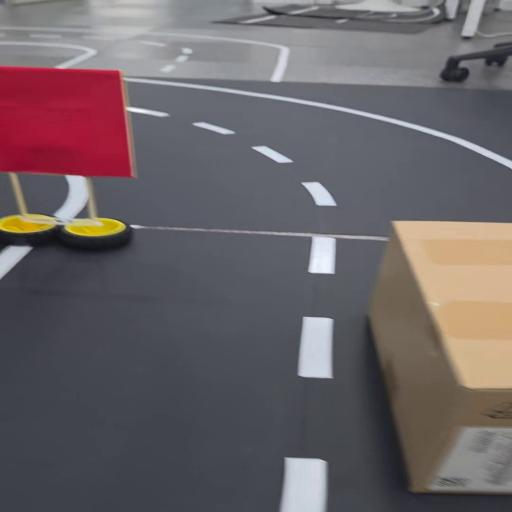Box: (321, 223, 512, 507)
Sign_A: (0, 61, 181, 260)
